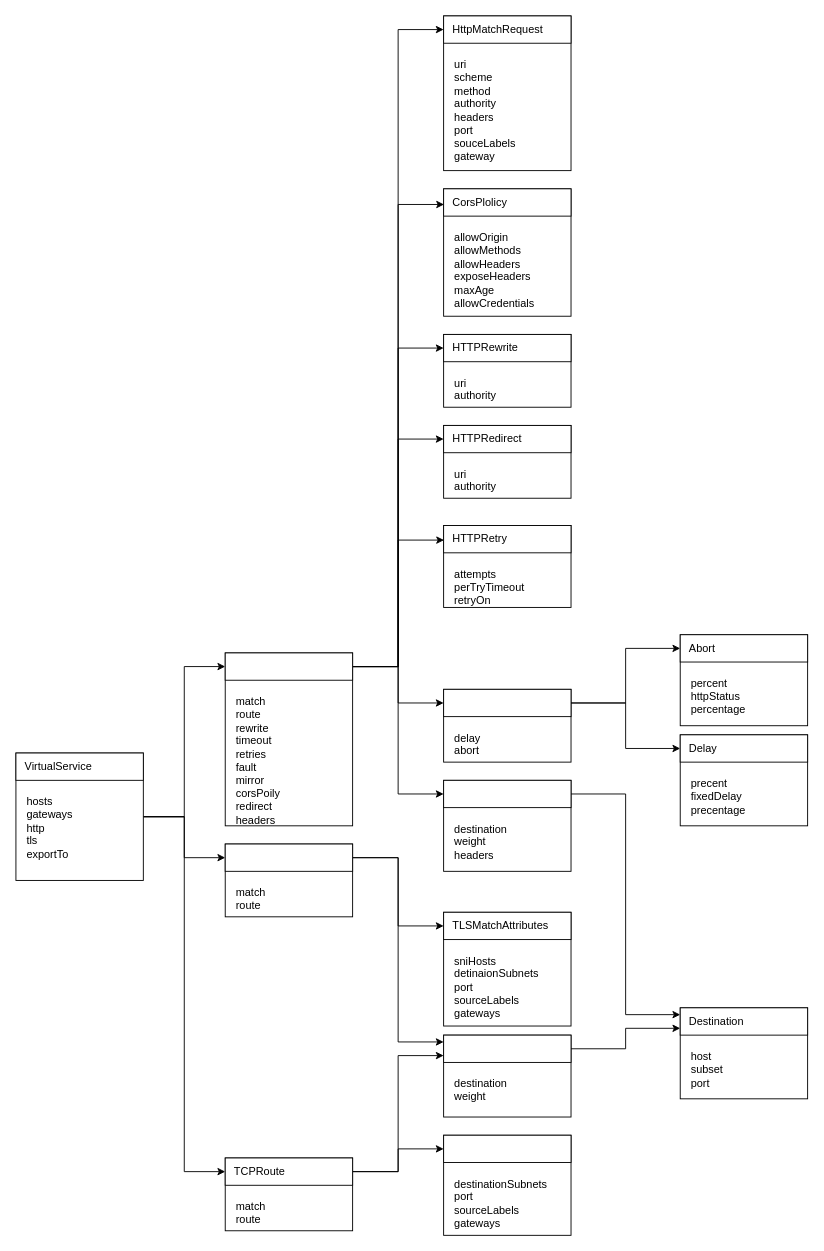
This 824x1251 diagram has some shape labels left out. The box of each missing label's shape, as (x1, y1, x2, y2) in pixels:
HttpFaultInjection: (443, 688, 571, 717)
HttpRoute: (224, 652, 353, 680)
HTTPRouteDestination: (443, 779, 571, 808)
L4MatchAttributes: (443, 1134, 571, 1163)
RouteDestination: (443, 1034, 571, 1062)
TLSRoute: (224, 843, 353, 871)
